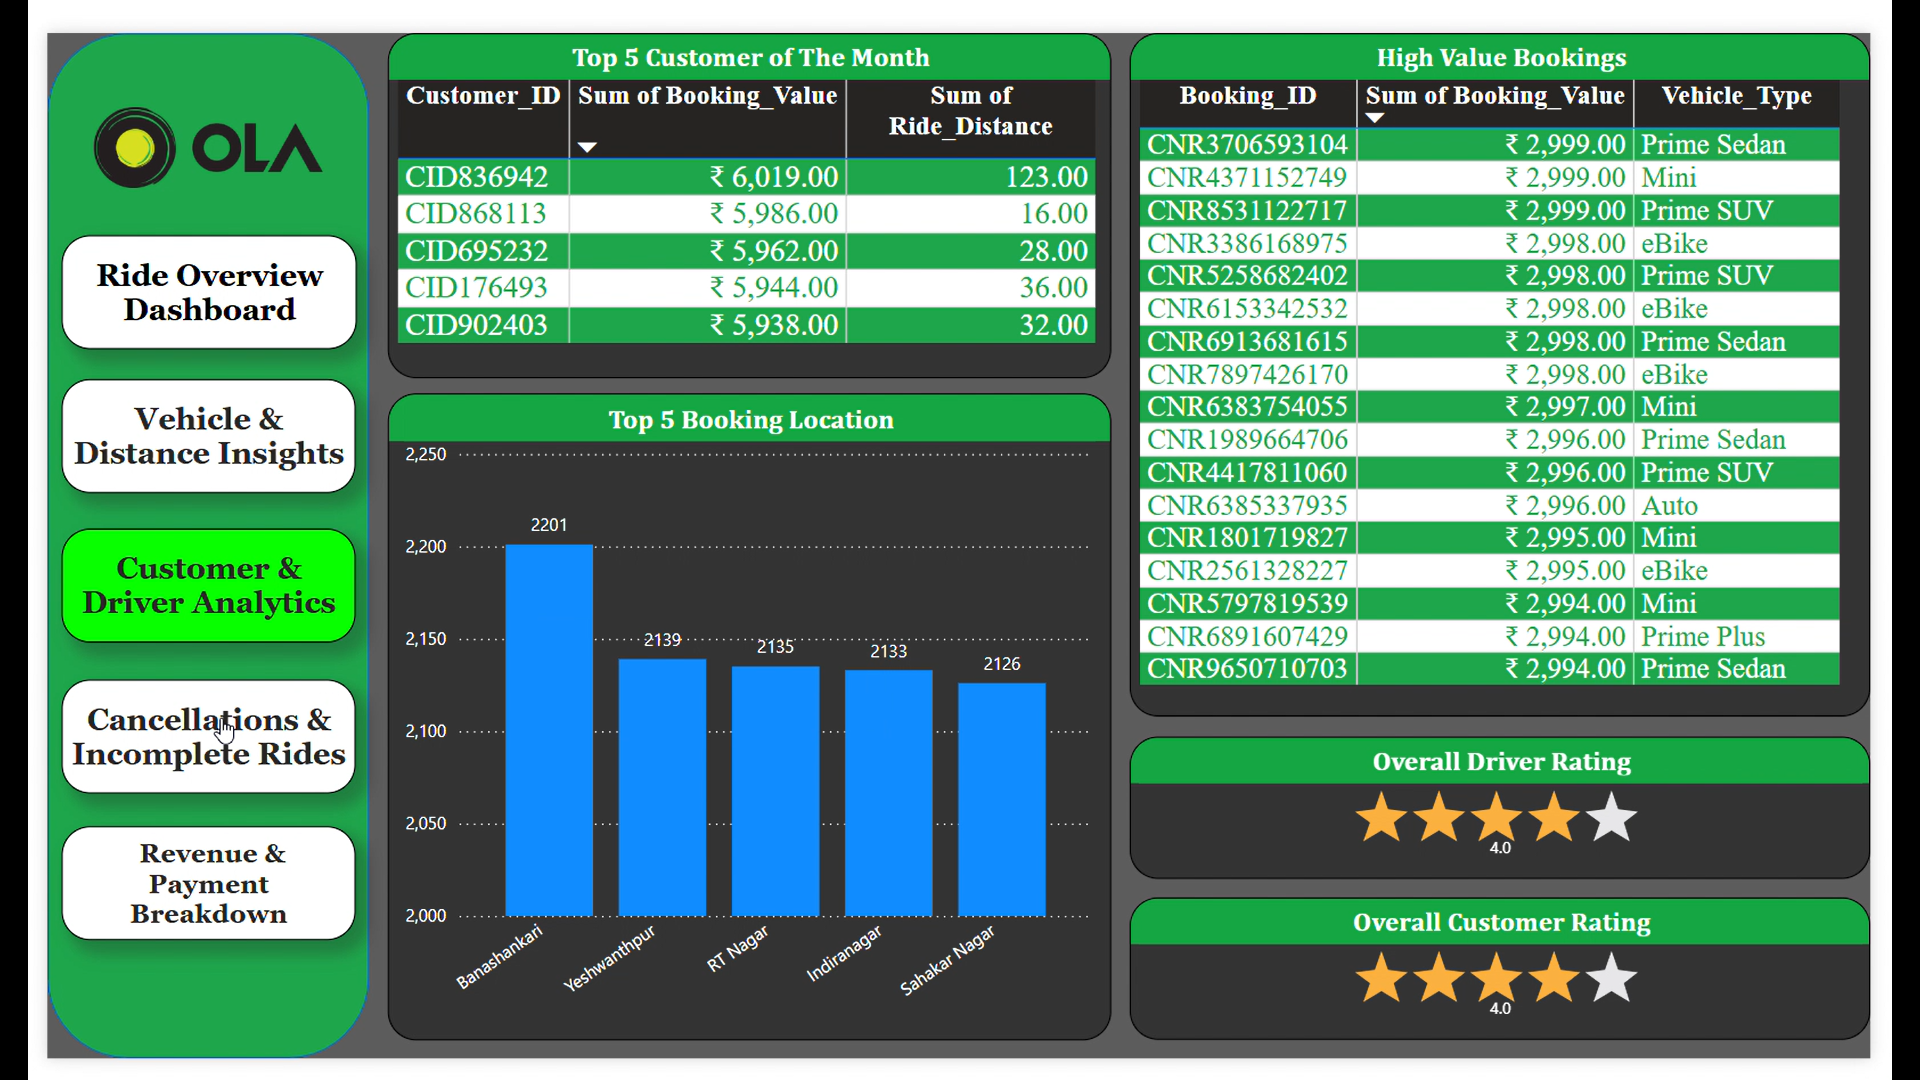

The dashboard page shown, as its layout file describes it:
{"tool":"powerbi","page":{"name":"Customer & Driver Analytics","canvas":[1280,720],"ordinal":2},"visuals":[{"type":"shape","box":[0,0,225.7,720],"z":0},{"type":"image","box":[27.1,28.3,171.1,103.4],"z":1000},{"type":"textbox","box":[10.1,141.7,206.6,80.5],"z":2000},{"type":"textbox","box":[10,242.6,206.3,80.1],"z":3000},{"type":"textbox","box":[10,348.1,206.3,80.1],"z":4000},{"type":"textbox","box":[10,453.7,206.3,80.1],"z":5000},{"type":"textbox","box":[10,556.5,206.3,80.1],"z":6000},{"type":"actionButton","box":[10,242.9,205.7,80],"z":7000},{"type":"actionButton","box":[10,141.4,205.7,80],"z":8000},{"type":"actionButton","box":[10,454.3,205.7,80],"z":9000},{"type":"actionButton","box":[10,557.1,205.7,80],"z":10000},{"type":"tableEx","title":"Top 5 Customer of The Month","fields":{"Values":["July.Customer_ID","Sum(July.Booking_Value)","Sum(July.Ride_Distance)"]},"box":[239.3,0,507.8,242.1],"z":11000},{"type":"tableEx","title":"High Value Bookings","fields":{"Values":["July.Booking_ID","Sum(July.Booking_Value)","July.Vehicle_Type"]},"box":[759.7,0,520.3,480],"z":12000},{"type":"PBI_CV_9053509D_D461_463A_B485_CE9F6AB0F13D","title":"Overall Customer Rating","fields":{"value":["Avg(July.Customer_Rating)"],"max":["Max(July.Customer_Rating)1"]},"box":[759.7,606.6,520.3,100.2],"z":13000},{"type":"PBI_CV_9053509D_D461_463A_B485_CE9F6AB0F13D","title":"Overall Driver Rating","fields":{"value":["Avg(July.Driver_Ratings)"],"max":["Max(July.Driver_Ratings)1"]},"box":[759.7,493.9,520.3,100.2],"z":14000},{"type":"clusteredColumnChart","title":"Top 5 Booking Location","fields":{"Category":["July.Pickup_Location"],"Y":["CountNonNull(July.Booking_ID)"]},"box":[239.3,253.2,507.8,453.6],"z":15000}]}

Visuals, with their boxes in screenshot pixels (x1, y1, x2, y2), scaled from the page's 1280x720 canvas onto the 1920x1080 screenshot:
shape: <bbox>0, 0, 339, 1079</bbox>
image: <bbox>41, 42, 297, 198</bbox>
textbox: <bbox>15, 213, 325, 333</bbox>
textbox: <bbox>15, 364, 324, 484</bbox>
textbox: <bbox>15, 522, 324, 642</bbox>
textbox: <bbox>15, 681, 324, 801</bbox>
textbox: <bbox>15, 835, 324, 955</bbox>
actionButton: <bbox>15, 364, 324, 484</bbox>
actionButton: <bbox>15, 212, 324, 332</bbox>
actionButton: <bbox>15, 681, 324, 801</bbox>
actionButton: <bbox>15, 836, 324, 956</bbox>
"Top 5 Customer of The Month" tableEx: <bbox>359, 0, 1121, 363</bbox>
"High Value Bookings" tableEx: <bbox>1140, 0, 1919, 720</bbox>
"Overall Customer Rating" PBI_CV_9053509D_D461_463A_B485_CE9F6AB0F13D: <bbox>1140, 910, 1919, 1060</bbox>
"Overall Driver Rating" PBI_CV_9053509D_D461_463A_B485_CE9F6AB0F13D: <bbox>1140, 741, 1919, 891</bbox>
"Top 5 Booking Location" clusteredColumnChart: <bbox>359, 380, 1121, 1060</bbox>
